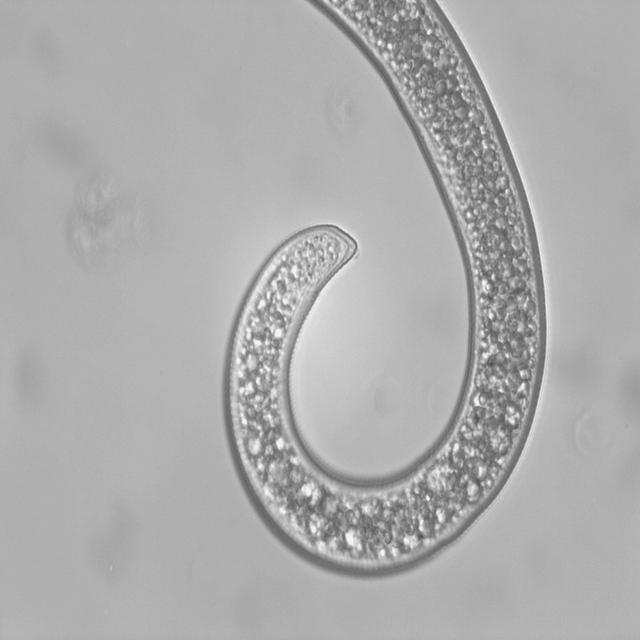Helicotylenchus: (218, 1, 562, 594)
